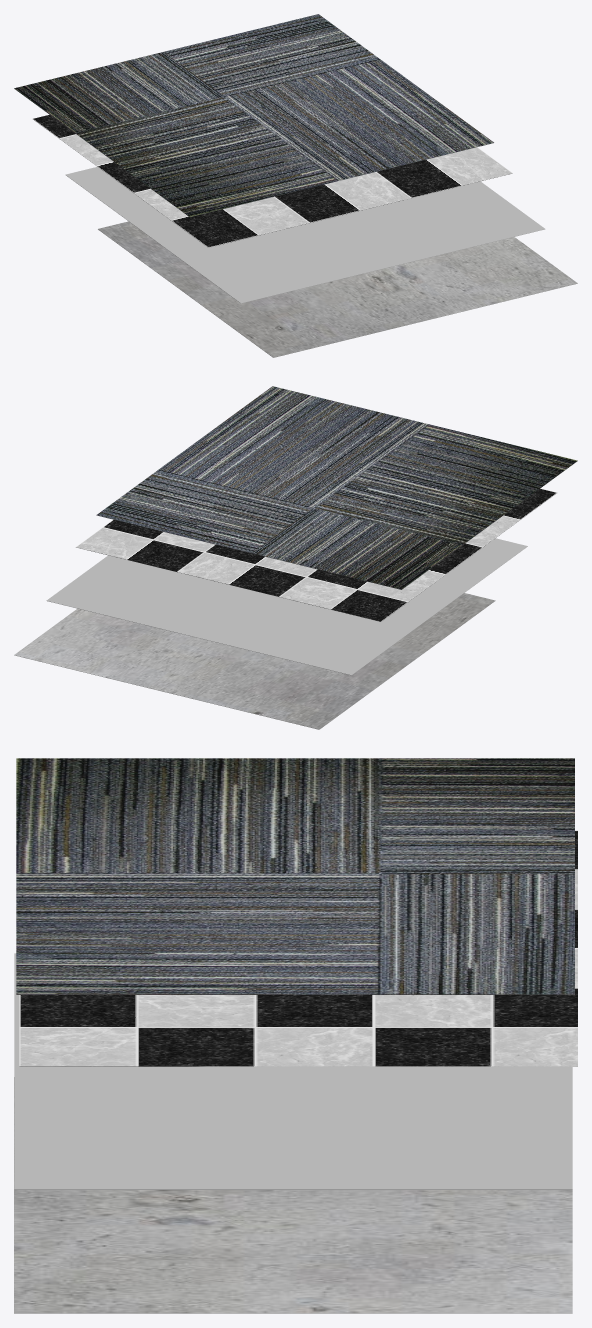
The model's file is Floors.fbx.
3 renders of one model, top to bottom at view 1: azimuth 30°, elevation 25°; view 2: azimuth 150°, elevation 25°; view 3: azimuth 270°, elevation 25°, orthographic. The views are drawn at different scales.
Parts seen in each view (by area): view 1: Carpet.Floor, Wood.Floor, Concrete.Floor, Checker.Floor; view 2: Carpet.Floor, Concrete.Floor, Wood.Floor, Checker.Floor; view 3: Carpet.Floor, Concrete.Floor, Wood.Floor, Checker.Floor.
Boxes of the visible parts, x1,y1,x2,y2 form: Carpet.Floor: [14, 14, 493, 217]; Wood.Floor: [65, 167, 545, 303]; Concrete.Floor: [98, 221, 577, 357]; Checker.Floor: [33, 115, 512, 247]; Carpet.Floor: [96, 386, 577, 589]; Concrete.Floor: [14, 593, 495, 729]; Wood.Floor: [46, 538, 527, 675]; Checker.Floor: [76, 488, 557, 621]; Carpet.Floor: [16, 758, 574, 994]; Concrete.Floor: [14, 1077, 572, 1313]; Wood.Floor: [14, 953, 572, 1189]; Checker.Floor: [19, 830, 577, 1066].
Bounding box in the file's own units: 1272 × 504 × 1010.
